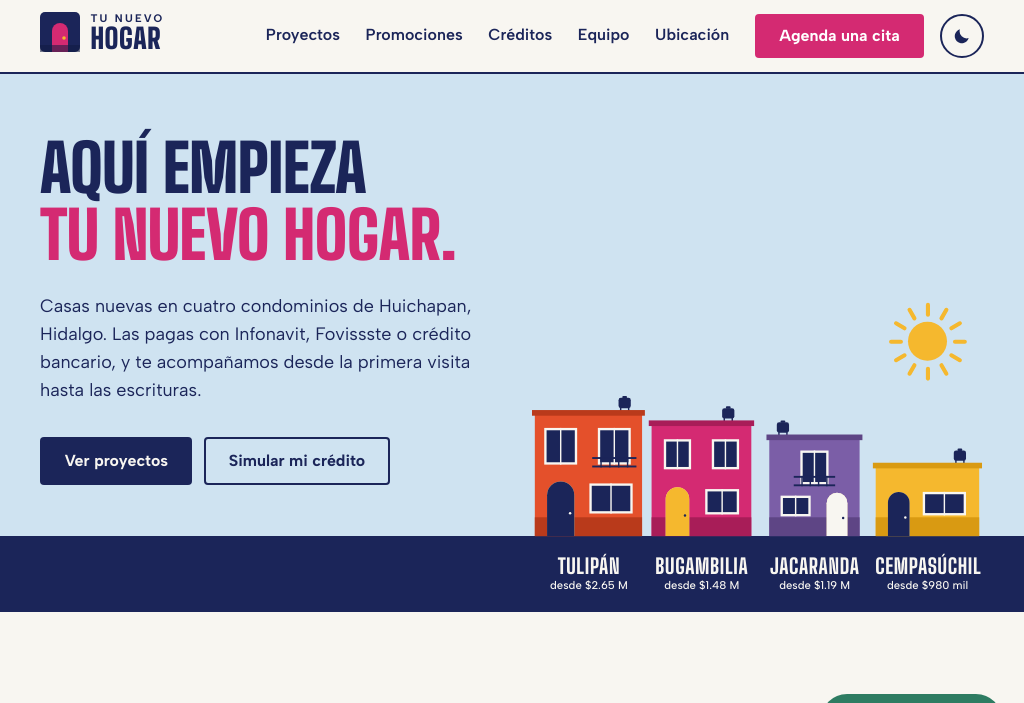
Test: App › switches the whole document theme from the header toggle
Click the button named "Cambiar a tema oscuro" at [962, 36], box [940,14,984,58]
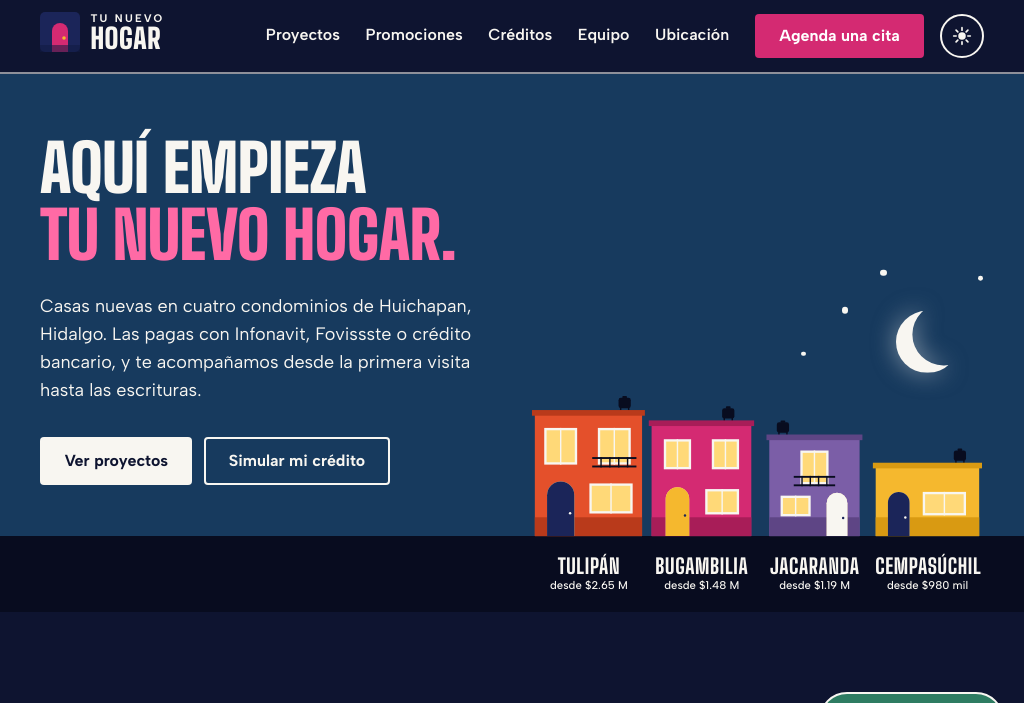
expect the button named "Cambiar a tema claro" is shown: met, box [940,14,984,58]
